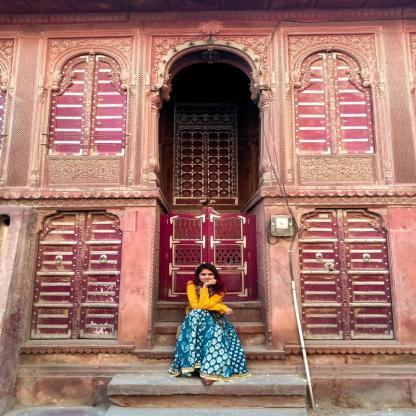Building Outline: (0, 1, 416, 408)
Dont: (169, 263, 252, 386)
Door: (173, 104, 238, 205)
Door Hole: (150, 44, 268, 350)
Facade: (0, 1, 416, 408)
Floor: (0, 0, 416, 205)
Floor Slab: (0, 205, 416, 209)
Ground Floor: (0, 209, 416, 407)
Molding: (260, 185, 416, 198), (0, 188, 159, 200)
Window: (297, 208, 396, 341), (29, 210, 123, 339), (294, 48, 375, 154), (47, 52, 127, 156)
